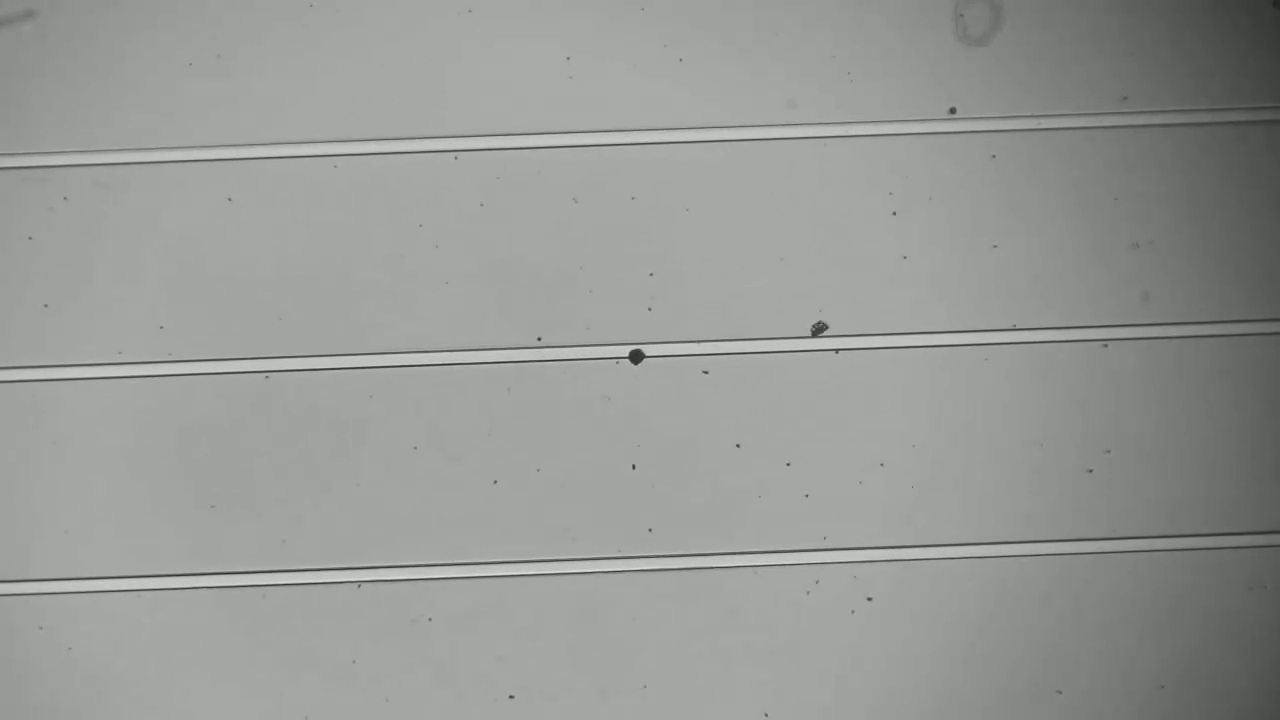stains_enbedded: (622, 334, 656, 373)
